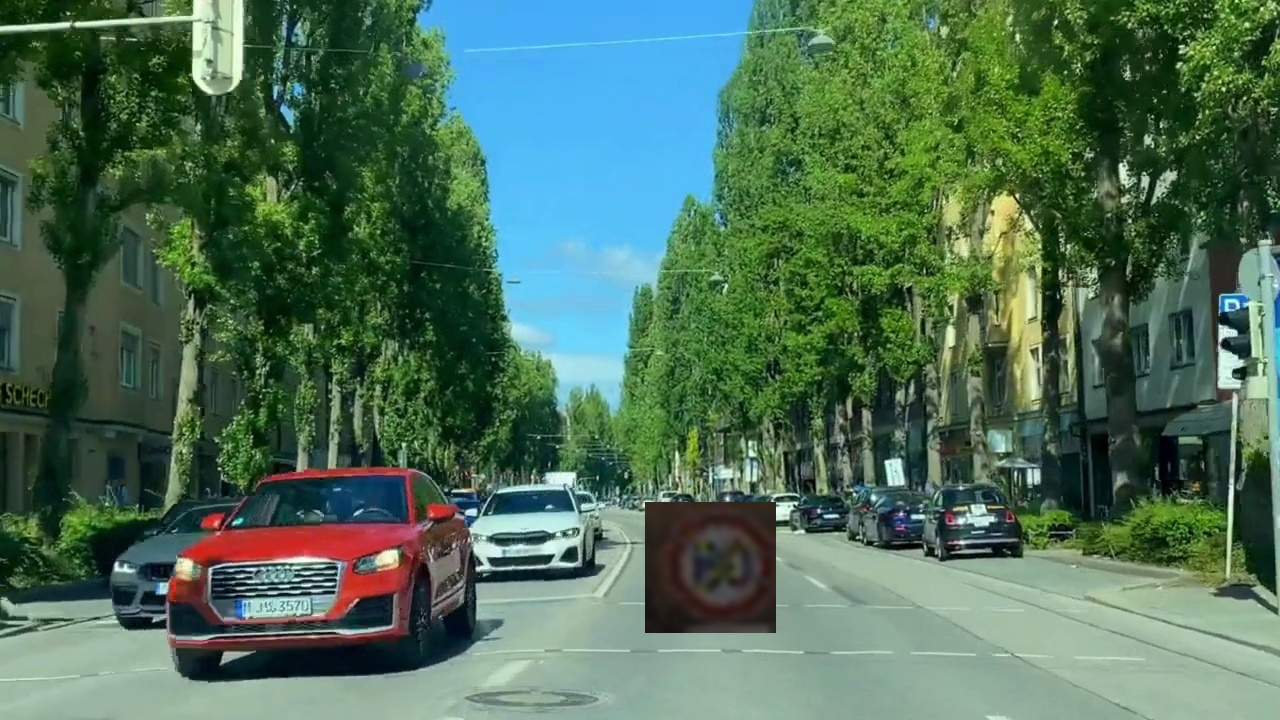Speed 80: (645, 502, 776, 633)
